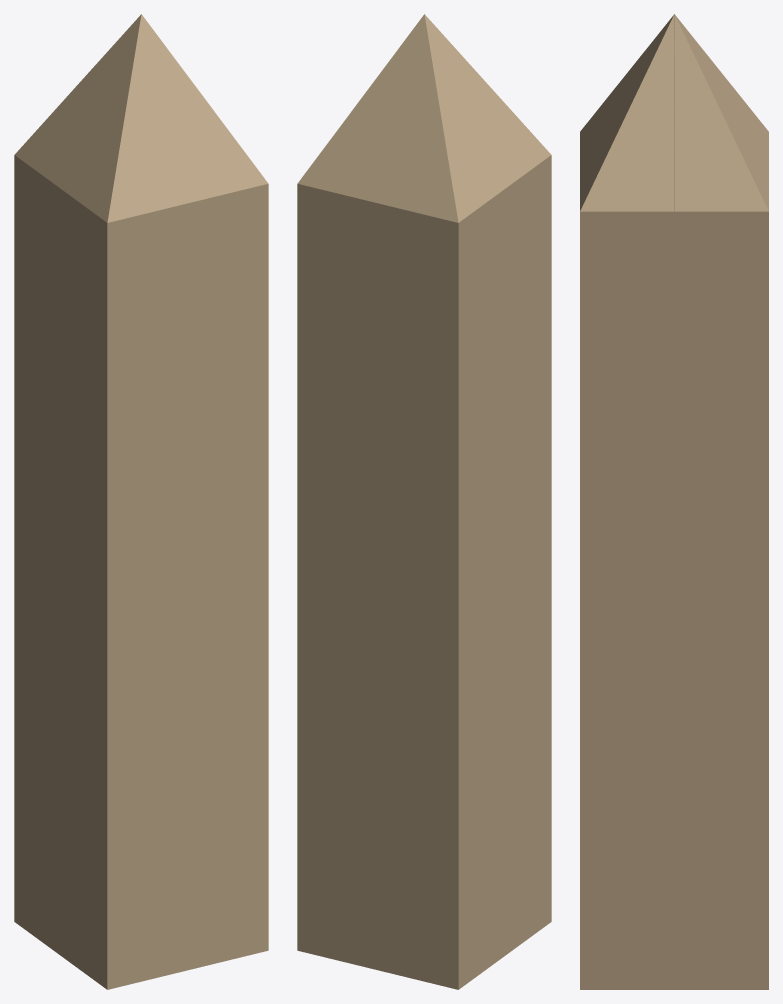
Rendered from fleshart.fbx.
3 renders of one model, left to right at view 1: azimuth 30°, elevation 25°; view 2: azimuth 150°, elevation 25°; view 3: azimuth 270°, elevation 25°, orthographic.
Parts seen in each view (by area): view 1: catherine_fleshartA:pCube1; view 2: catherine_fleshartA:pCube1; view 3: catherine_fleshartA:pCube1.
Boxes of the visible parts, x1=… form: catherine_fleshartA:pCube1: x1=14, y1=14, x2=268, y2=989; catherine_fleshartA:pCube1: x1=297, y1=14, x2=551, y2=989; catherine_fleshartA:pCube1: x1=580, y1=14, x2=768, y2=989.
Size of the model in its own units: 9.13 by 49.94 by 9.13.
